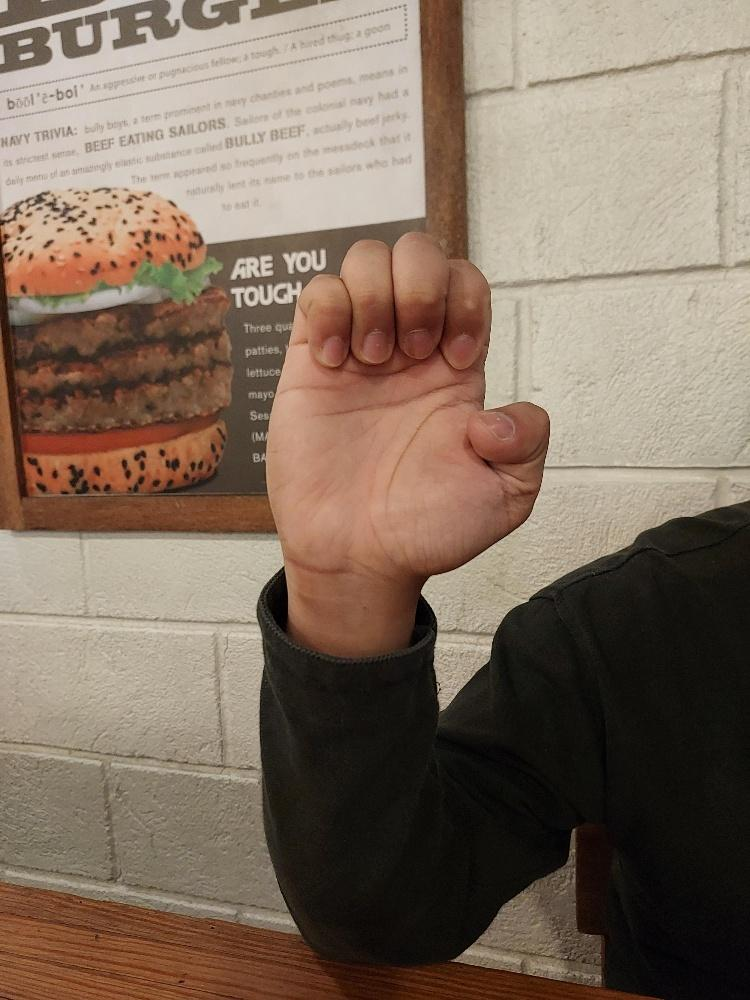e: (262, 228, 551, 590)
